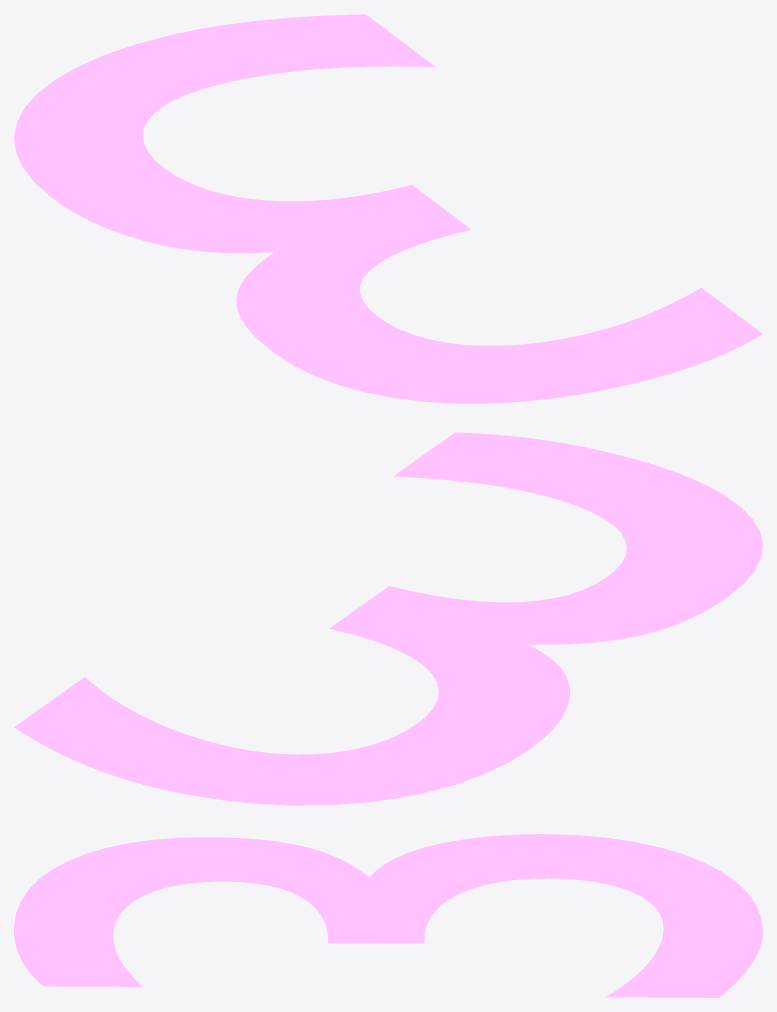
File: numb_3_purple.glb
3 renders of one model, top to bottom at view 1: azimuth 30°, elevation 25°; view 2: azimuth 150°, elevation 25°; view 3: azimuth 270°, elevation 25°, orthographic. The views are drawn at different scales.
Visible parts, largest first — view 1: 3_numb_purple; view 2: 3_numb_purple; view 3: 3_numb_purple.
Part boxes in pixels (left/top/right/bottom): 3_numb_purple: left=14, top=14, right=762, bottom=403; 3_numb_purple: left=14, top=432, right=762, bottom=805; 3_numb_purple: left=14, top=834, right=762, bottom=997.
Bounding box in the file's own units: 1.16 × 4.82e-10 × 2.24.
